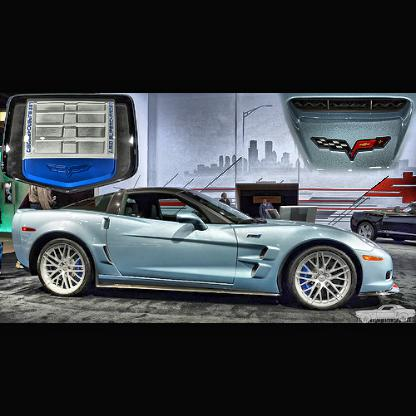Chevrolet Corvette ZR1 2012: (12, 185, 400, 315)
